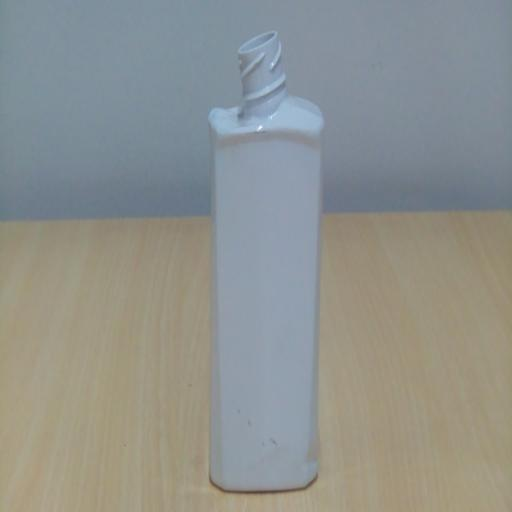Bad: (198, 20, 335, 503)
